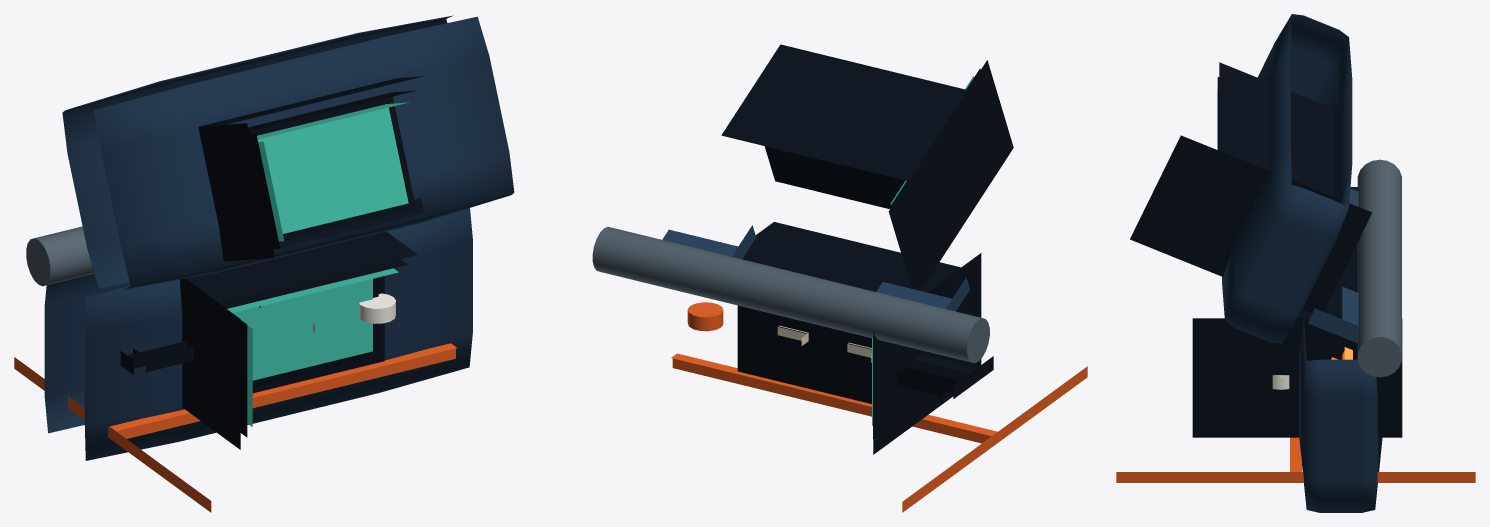
File: model-handheld-04.glb
3 renders of one model, left to right at view 1: azimuth 30°, elevation 25°; view 2: azimuth 150°, elevation 25°; view 3: azimuth 270°, elevation 25°, orthographic. The views are drawn at different scales.
Parts seen in each view (by area): view 1: 上机身, 下机身, 下屏边框, 上屏辉光, 下屏辉光, 上屏边框, 正面饰条, 上屏玻璃, 下屏玻璃, 转轴, 十字键, 按键B; view 2: 上屏边框, 下屏边框, 转轴, 正面饰条, 十字键, 肩键右, 肩键左, 按键A; view 3: 上机身, 上屏边框, 下屏边框, 下机身, 转轴, 正面饰条, 肩键右.
Part boxes in pixels (left/top/right/bottom): 上机身: left=62, top=15, right=514, bottom=289; 下机身: left=44, top=208, right=472, bottom=460; 下屏边框: left=180, top=231, right=417, bottom=449; 上屏辉光: left=257, top=102, right=409, bottom=241; 下屏辉光: left=227, top=268, right=398, bottom=426; 上屏边框: left=198, top=76, right=424, bottom=261; 正面饰条: left=14, top=343, right=456, bottom=512; 上屏玻璃: left=248, top=90, right=415, bottom=249; 下屏玻璃: left=219, top=259, right=407, bottom=437; 转轴: left=26, top=226, right=94, bottom=286; 十字键: left=120, top=341, right=193, bottom=374; 按键B: left=359, top=293, right=395, bottom=323; 上屏边框: left=721, top=44, right=1013, bottom=290; 下屏边框: left=737, top=222, right=981, bottom=454; 转轴: left=592, top=226, right=989, bottom=363; 正面饰条: left=671, top=353, right=1087, bottom=512; 十字键: left=897, top=354, right=993, bottom=398; 肩键右: left=662, top=225, right=756, bottom=259; 肩键左: left=876, top=277, right=969, bottom=311; 按键A: left=687, top=302, right=723, bottom=331; 上机身: left=1222, top=14, right=1352, bottom=343; 上屏边框: left=1130, top=62, right=1372, bottom=312; 下屏边框: left=1192, top=243, right=1402, bottom=437; 下机身: left=1299, top=187, right=1382, bottom=512; 转轴: left=1357, top=159, right=1401, bottom=377; 正面饰条: left=1116, top=437, right=1475, bottom=482; 肩键右: left=1308, top=286, right=1359, bottom=343.
Bounding box in the file's own units: 0.14 × 0.1254 × 0.12.
